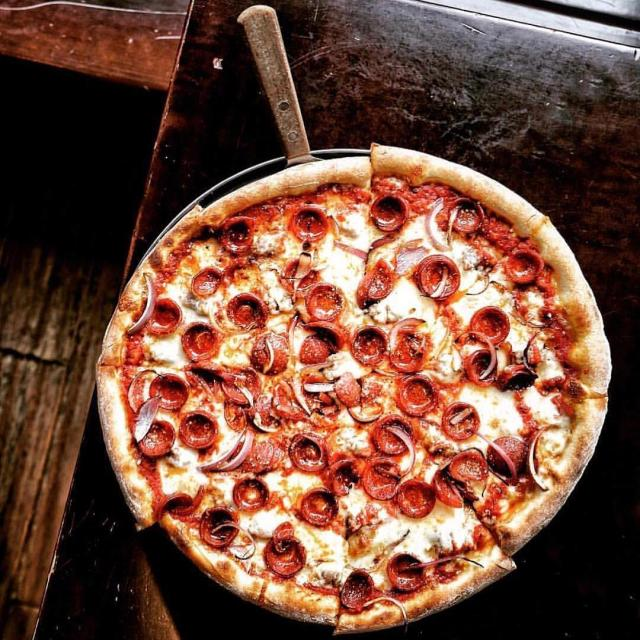pepperoni: (262, 518, 310, 579), (413, 248, 464, 304), (197, 496, 240, 551), (388, 316, 428, 375), (248, 329, 292, 379), (371, 408, 414, 458), (396, 373, 439, 421), (466, 303, 514, 346), (145, 368, 191, 412), (286, 428, 328, 476), (355, 258, 395, 308), (502, 242, 546, 287), (349, 321, 390, 369), (497, 348, 538, 396), (488, 432, 527, 482), (386, 550, 430, 594), (131, 419, 177, 461), (231, 469, 272, 515), (275, 256, 321, 297), (149, 486, 201, 522), (179, 318, 221, 362), (392, 477, 436, 519), (299, 482, 340, 527), (299, 280, 345, 320), (446, 192, 486, 238), (177, 354, 225, 392), (220, 363, 262, 406), (179, 408, 220, 452), (226, 290, 270, 331), (460, 346, 499, 392), (289, 203, 331, 245), (366, 193, 410, 233), (339, 566, 377, 612), (145, 292, 183, 338), (216, 215, 258, 256), (361, 458, 401, 501), (441, 402, 481, 445), (302, 313, 348, 349), (448, 446, 490, 484), (325, 456, 363, 497), (221, 399, 257, 433), (431, 468, 460, 510), (189, 264, 223, 298), (300, 331, 334, 365), (334, 372, 363, 411)
pizza: (97, 145, 610, 632)
